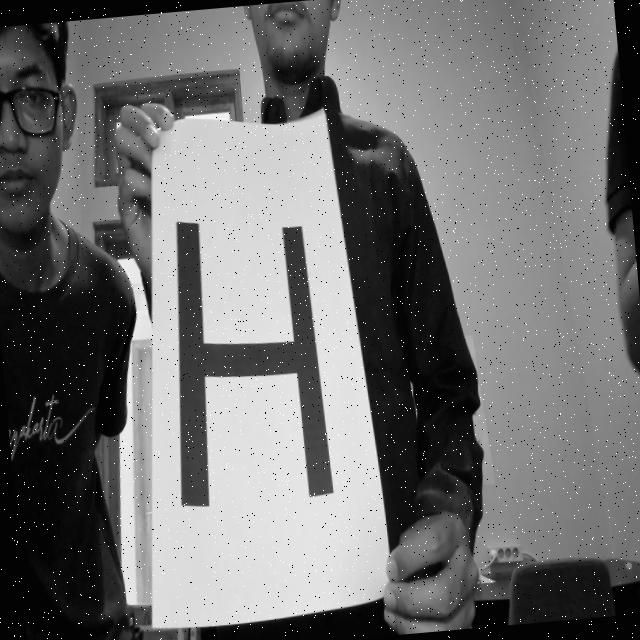h: (150, 201, 346, 533)
